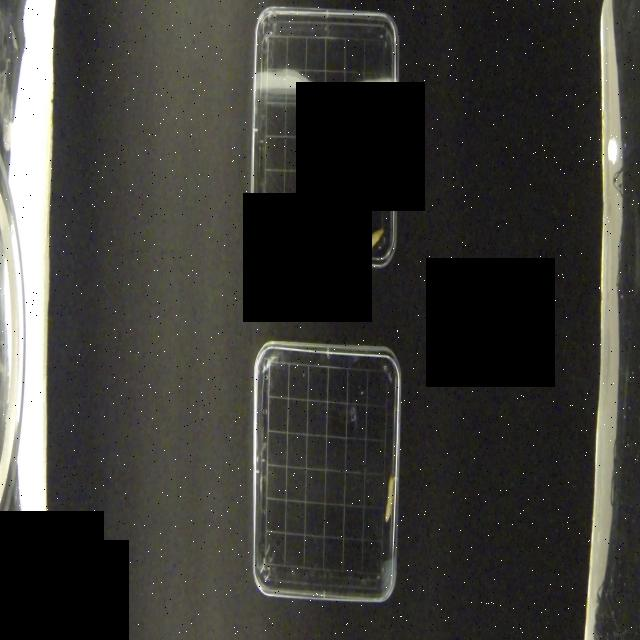larva: (352, 227, 384, 259), (382, 468, 396, 525)
